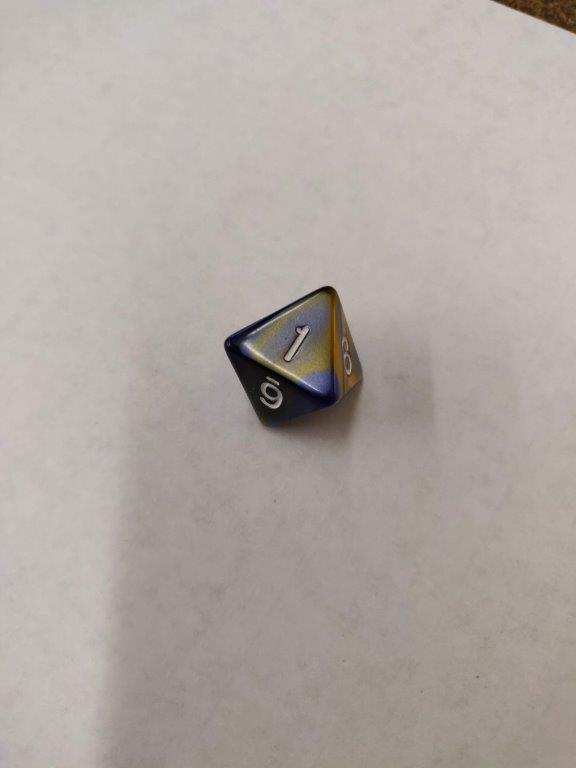d8-1: (223, 283, 367, 434)
